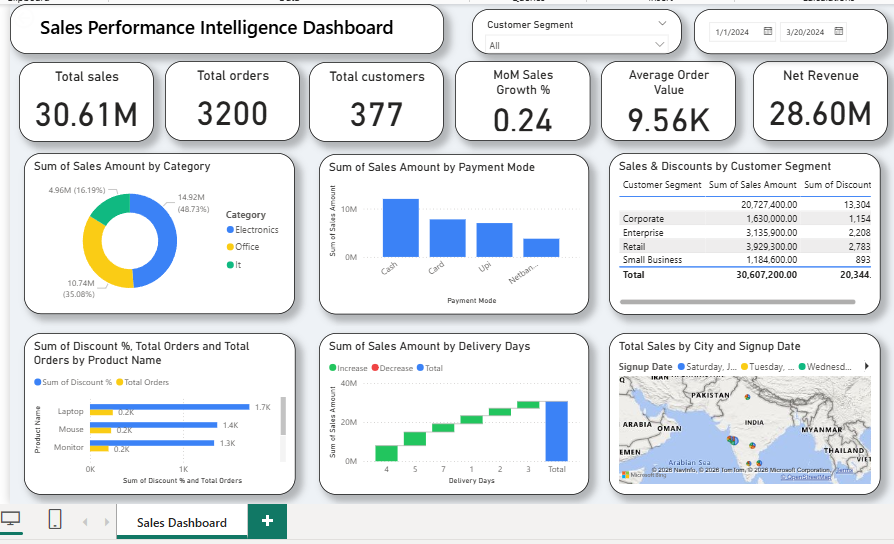

Layout of this report page (visuals, bound fields, positions):
{"tool":"powerbi","page":{"name":"Sales Dashboard","canvas":[1280,720],"ordinal":0},"visuals":[{"type":"actionButton","box":[0,0,100,40],"z":0},{"type":"slicer","fields":{"Values":["Customer_Data.Customer Segment"]},"box":[665.3,7.2,302.4,64.8],"z":1000},{"type":"columnChart","fields":{"Category":["Sales_Data.Payment Mode"],"Y":["Sum(Sales_Data.Sales Amount)"]},"box":[444.9,216.6,389.3,231.2],"z":2000},{"type":"clusteredBarChart","fields":{"Category":["Product_Data.Product Name"],"Y":["Sum(Sales_Data.Discount %)","Customer_Data.Total Orders","Customer_Data.Total Orders"]},"box":[20.5,474.1,390.7,232.7],"z":3000},{"type":"textbox","box":[0,0,625,72],"z":4000},{"type":"tableEx","title":"Sales & Discounts by Customer Segment","fields":{"Values":["Customer_Data.Customer Segment","Sum(Sales_Data.Sales Amount)","Sum(Sales_Data.Discount %)"]},"box":[862,215.1,390.7,232.7],"z":5000},{"type":"donutChart","fields":{"Category":["Sales_Data.Category"],"Y":["Sum(Sales_Data.Sales Amount)"]},"box":[20.2,215,390,232],"z":6000},{"type":"card","title":"Total sales","fields":{"Values":["Customer_Data.Total Sales"]},"box":[13.2,83.4,194,115],"z":7000},{"type":"card","title":"Total orders","fields":{"Values":["Customer_Data.Total Orders"]},"box":[223.9,82,194,115],"z":8000},{"type":"card","title":"Total customers","fields":{"Values":["Customer_Data.Active Customers"]},"box":[430.2,83.4,194,115],"z":9000},{"type":"card","title":"MoM Sales Growth %","fields":{"Values":["Customer_Data.MoM Sales Growth %"]},"box":[641,82,194.6,115],"z":10000},{"type":"card","title":"Net Revenue","fields":{"Values":["Customer_Data.Net Revenue"]},"box":[1069.8,82,194,115],"z":11000},{"type":"card","title":"Average Order Value","fields":{"Values":["Customer_Data.Average order value"]},"box":[851.7,82,194,115],"z":12000},{"type":"map","fields":{"Category":["Sales_Data.City"],"Size":["Customer_Data.Total Sales"],"Series":["Customer_Data.Signup Date"]},"box":[862,474.1,390.7,232.7],"z":13000},{"type":"waterfallChart","fields":{"Category":["Sales_Data.Delivery Days"],"Y":["Sum(Sales_Data.Sales Amount)"]},"box":[444.9,474.1,389.3,232.7],"z":14000},{"type":"slicer","fields":{"Values":["Sales_Data.Order Date"]},"box":[985,7.2,279.4,64.8],"z":15000}]}

Visuals, with their boxes in screenshot pixels (x1, y1, x2, y2):
actionButton: {"x1": 12, "y1": 5, "x2": 81, "y2": 32}
slicer - Customer_Data.Customer Segment: {"x1": 470, "y1": 10, "x2": 678, "y2": 54}
columnChart - Sales_Data.Payment Mode x Sum(Sales_Data.Sales Amount): {"x1": 318, "y1": 154, "x2": 586, "y2": 313}
clusteredBarChart - Product_Data.Product Name x Sum(Sales_Data.Discount %): {"x1": 26, "y1": 331, "x2": 295, "y2": 491}
textbox: {"x1": 12, "y1": 5, "x2": 442, "y2": 54}
"Sales & Discounts by Customer Segment" tableEx: {"x1": 605, "y1": 153, "x2": 874, "y2": 313}
donutChart - Sales_Data.Category x Sum(Sales_Data.Sales Amount): {"x1": 26, "y1": 153, "x2": 294, "y2": 313}
"Total sales" card: {"x1": 21, "y1": 62, "x2": 154, "y2": 141}
"Total orders" card: {"x1": 166, "y1": 61, "x2": 299, "y2": 140}
"Total customers" card: {"x1": 308, "y1": 62, "x2": 442, "y2": 141}
"MoM Sales Growth %" card: {"x1": 453, "y1": 61, "x2": 587, "y2": 140}
"Net Revenue" card: {"x1": 748, "y1": 61, "x2": 882, "y2": 140}
"Average Order Value" card: {"x1": 598, "y1": 61, "x2": 732, "y2": 140}
map - Sales_Data.City x Customer_Data.Total Sales: {"x1": 605, "y1": 331, "x2": 874, "y2": 491}
waterfallChart - Sales_Data.Delivery Days x Sum(Sales_Data.Sales Amount): {"x1": 318, "y1": 331, "x2": 586, "y2": 491}
slicer - Sales_Data.Order Date: {"x1": 690, "y1": 10, "x2": 883, "y2": 54}
